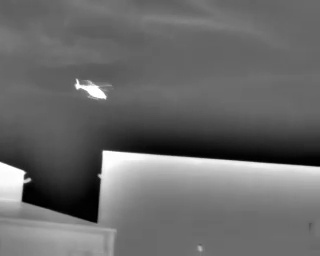HELICOPTER: (72, 74, 118, 108)
